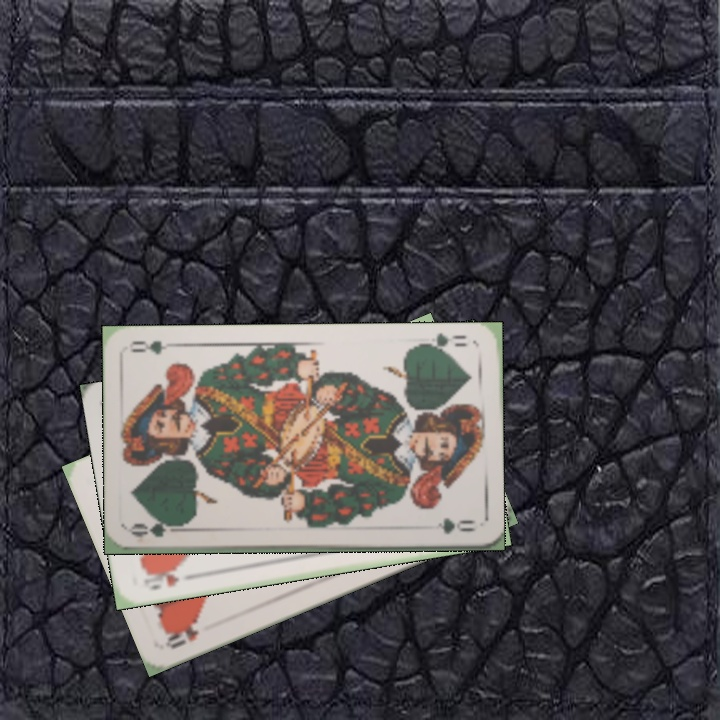GO: (417, 329, 469, 356), (129, 518, 188, 540)
HO: (161, 618, 202, 652), (140, 564, 182, 593)
